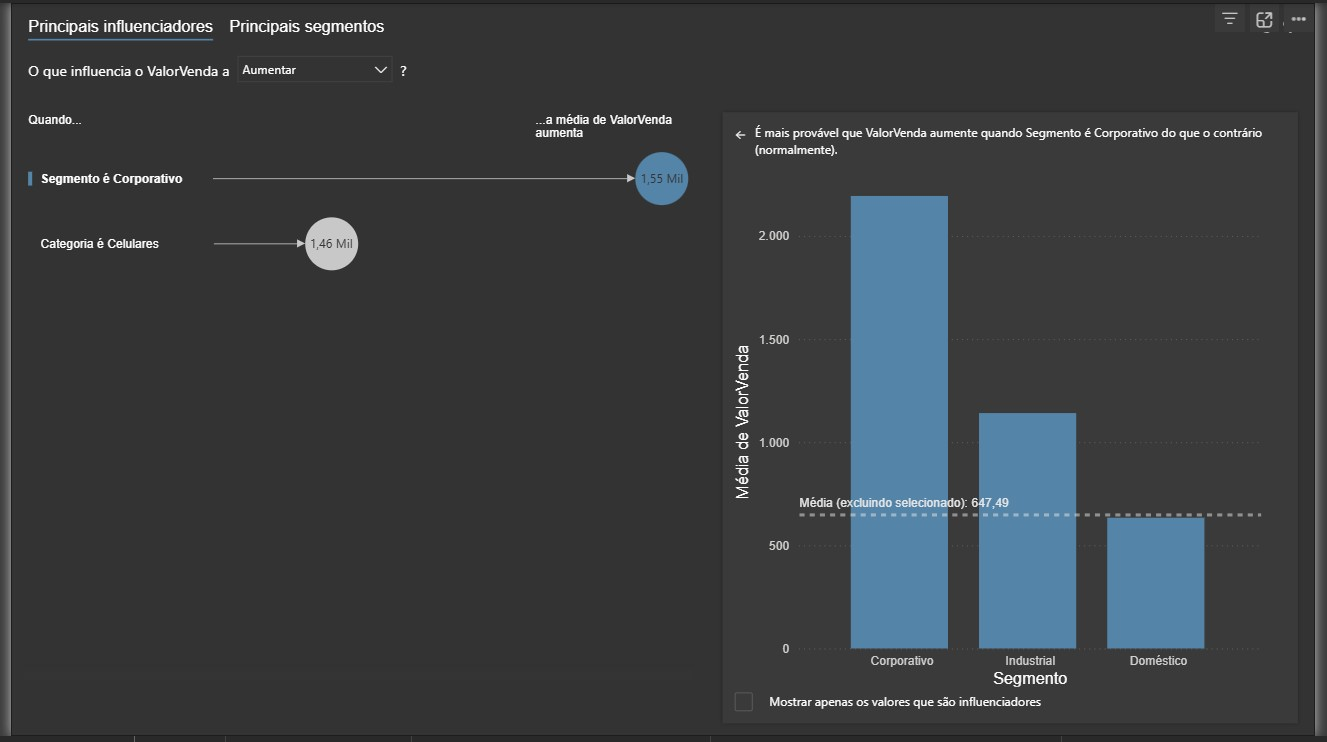

The page's visual inventory and layout, read from the dashboard file:
{"tool":"powerbi","page":{"name":"Principais Influenciadores de Vendas","canvas":[1280,720],"ordinal":2},"visuals":[{"type":"keyDriversVisual","fields":{"Target":["Vendas.ValorVenda"],"ExplainBy":["Vendas.Segmento","Vendas.Categoria"]},"box":[0,0,1280,720],"z":0}]}

Visuals, with their boxes on the page's 1280x720 design canvas (x1, y1, x2, y2). These are canvas units, not pixel positions in the 1327x742 screenshot, which may show the page scaled, cropped or inside an application window:
keyDriversVisual - Vendas.ValorVenda x Vendas.Segmento: (0, 0, 1280, 720)
